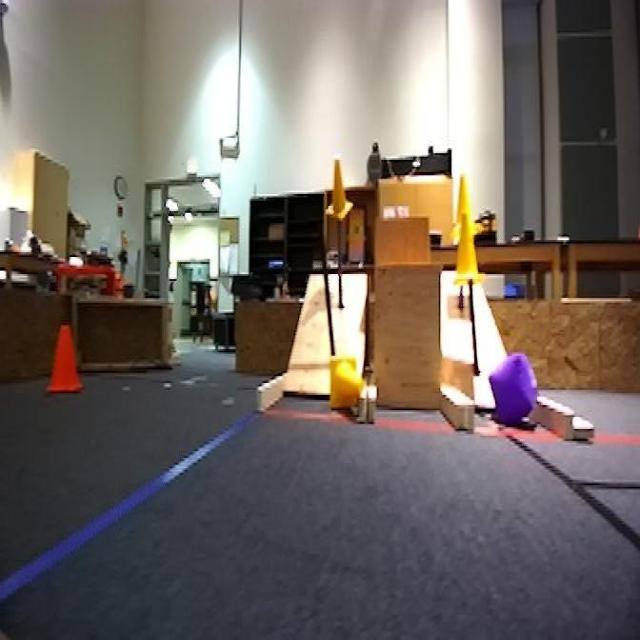frc_cone: (451, 211, 484, 284), (328, 358, 366, 408), (325, 155, 353, 221), (452, 172, 477, 228)
frc_cube: (490, 354, 538, 427)
